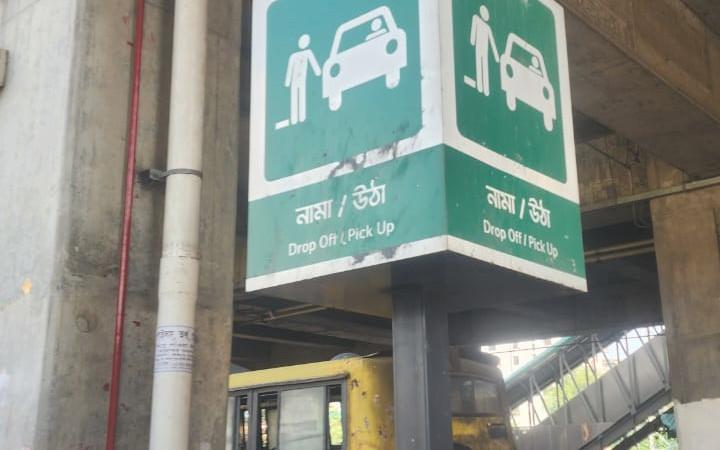Metro Dorp Up Pick up: (246, 0, 586, 308)
